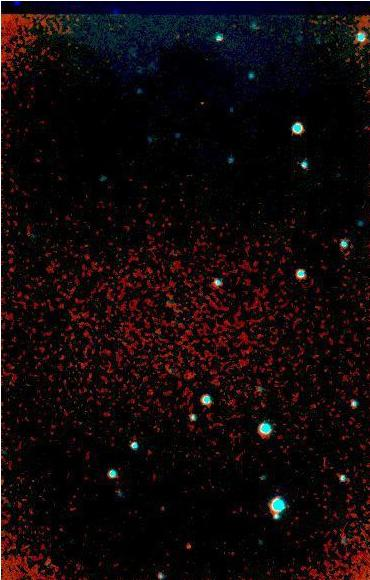star: (173, 531, 203, 561)
